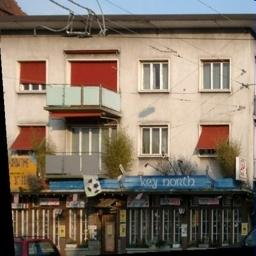building: (0, 0, 256, 248)
